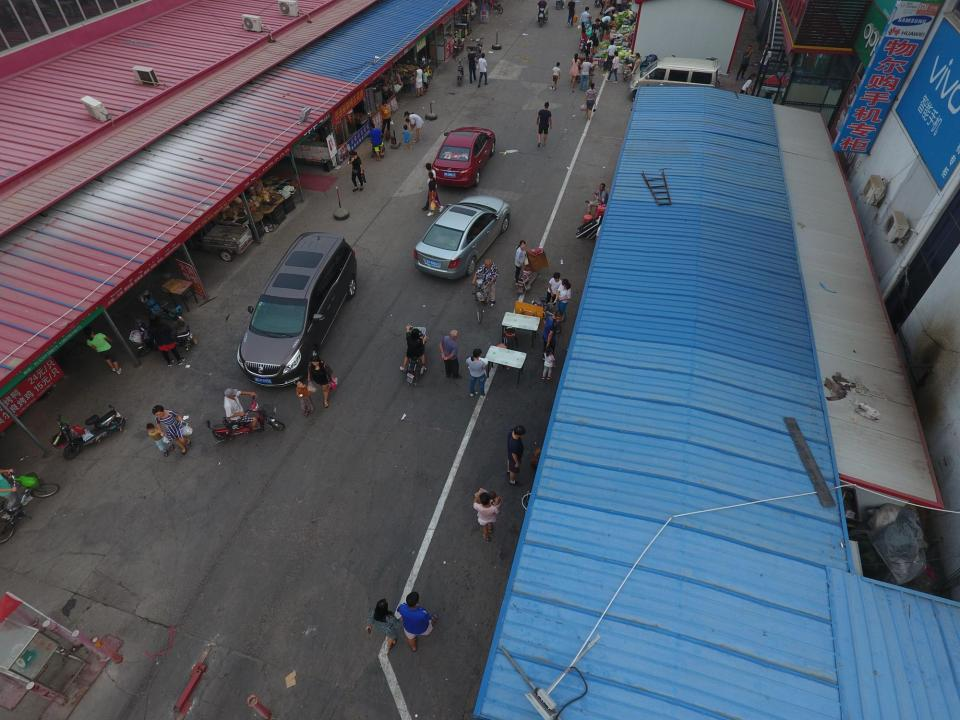car: (414, 195, 510, 280), (431, 127, 495, 188)
van: (237, 232, 357, 387), (628, 56, 721, 103)
